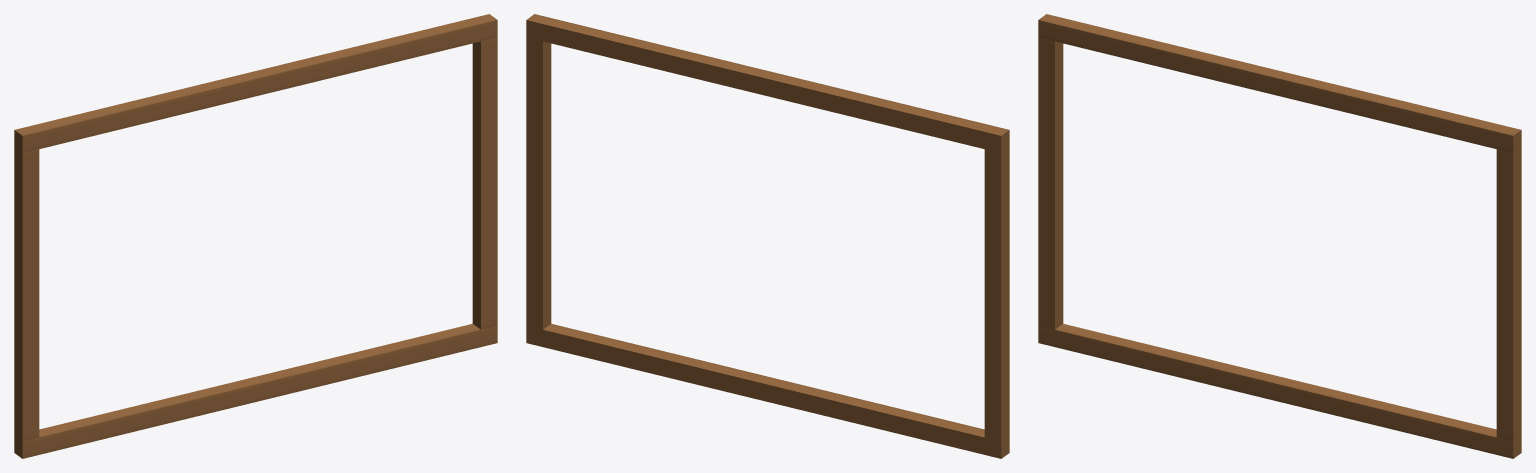
File: WallArtFrame.obj
3 views of the same model, side by side, from view 1: azimuth 30°, elevation 25°; view 2: azimuth 150°, elevation 25°; view 3: azimuth 330°, elevation 25° (orthographic).
Visible parts, largest first — view 1: WallArtFrame; view 2: WallArtFrame; view 3: WallArtFrame.
Boxes of the visible parts, x1=… form: WallArtFrame: x1=14, y1=14, x2=497, y2=458; WallArtFrame: x1=526, y1=14, x2=1009, y2=458; WallArtFrame: x1=1038, y1=14, x2=1521, y2=458.
Bounding box in the file's own units: 2 × 1.3 × 0.06.
1 material, 1 textured.
